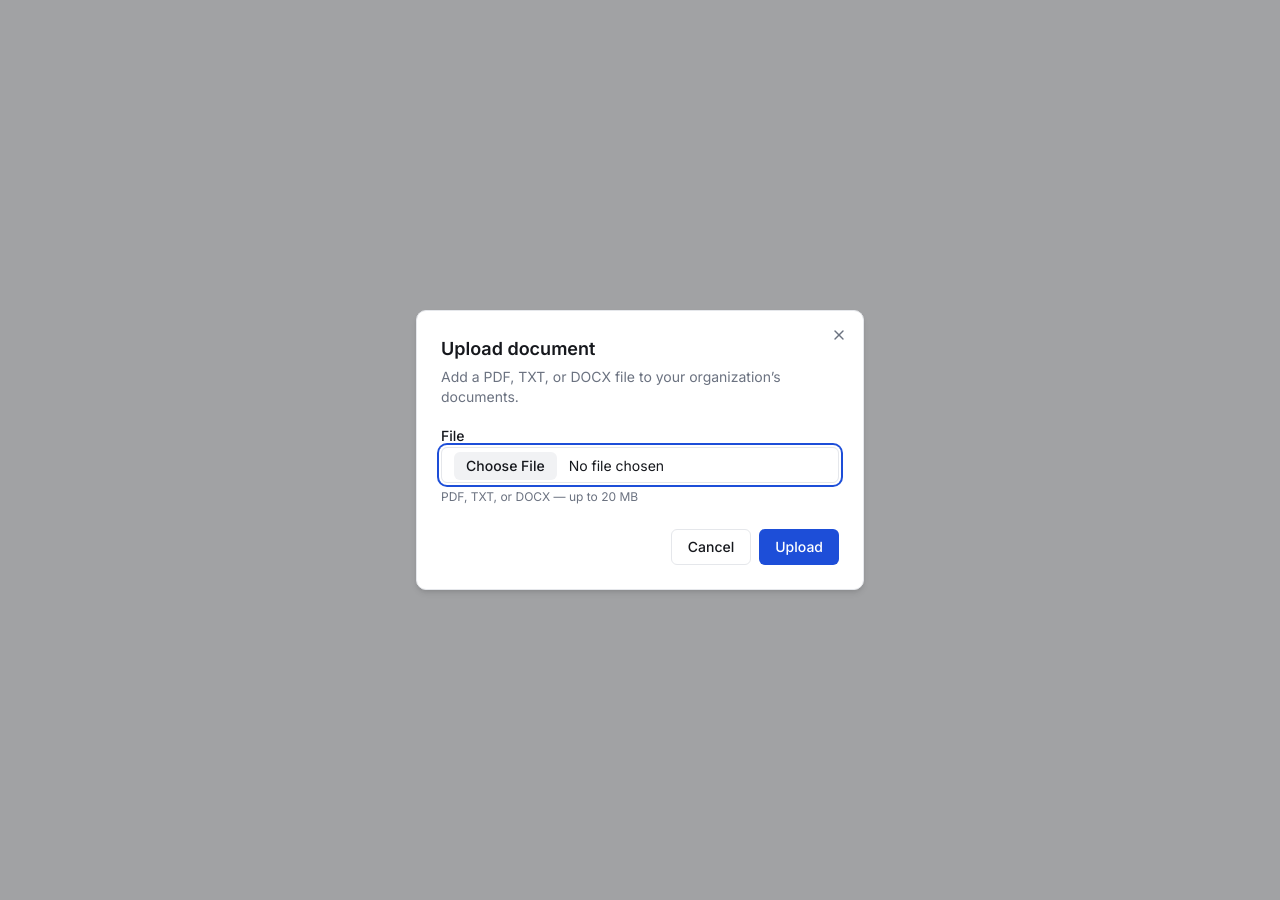
Scenario: DocumentUploadDialog › requires a file before submitting
Click the button "Upload".
click(799, 547)  # box x1=759 y1=529 x2=839 y2=565
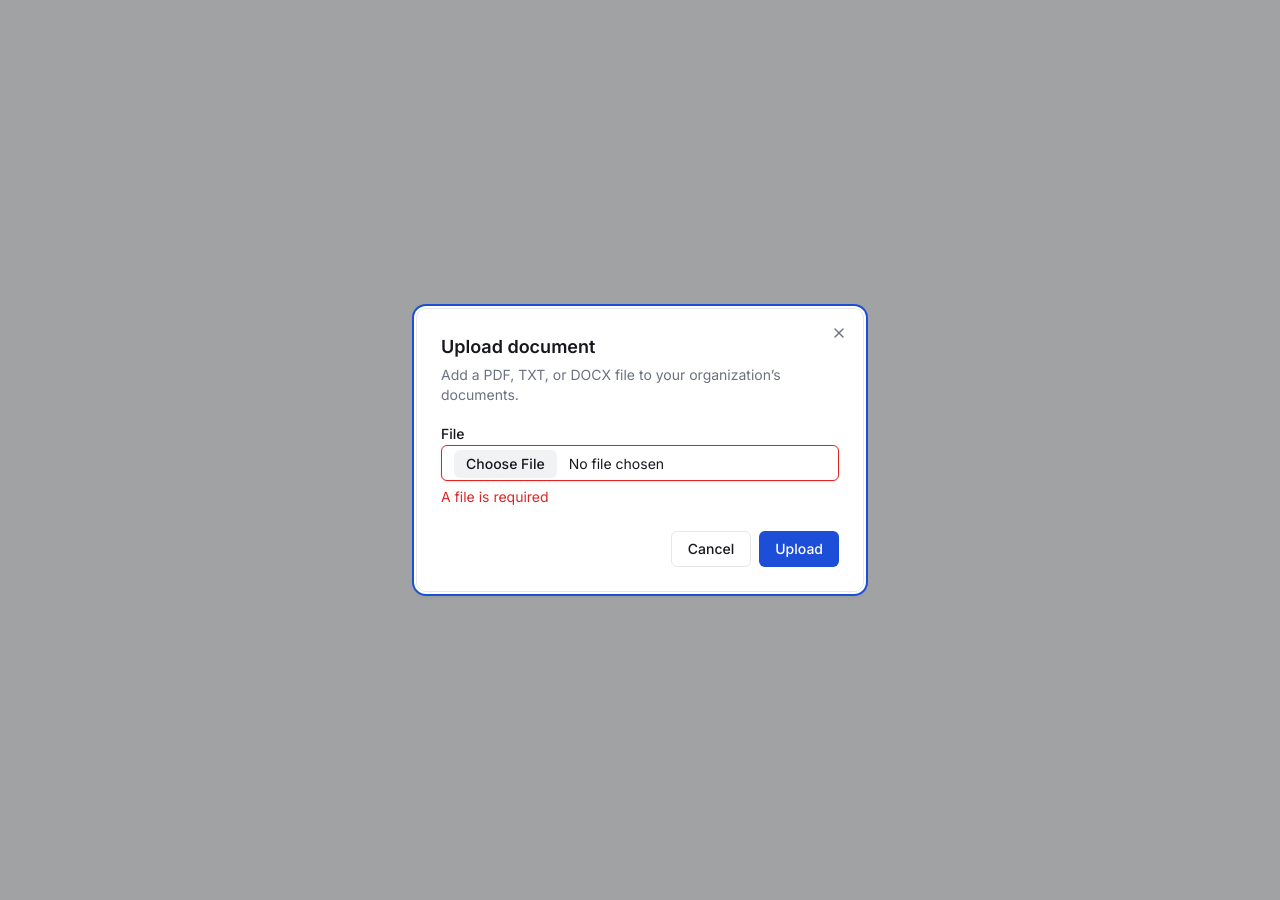
Check: the text "A file is required" is shown, box x1=441 y1=488 x2=549 y2=505
